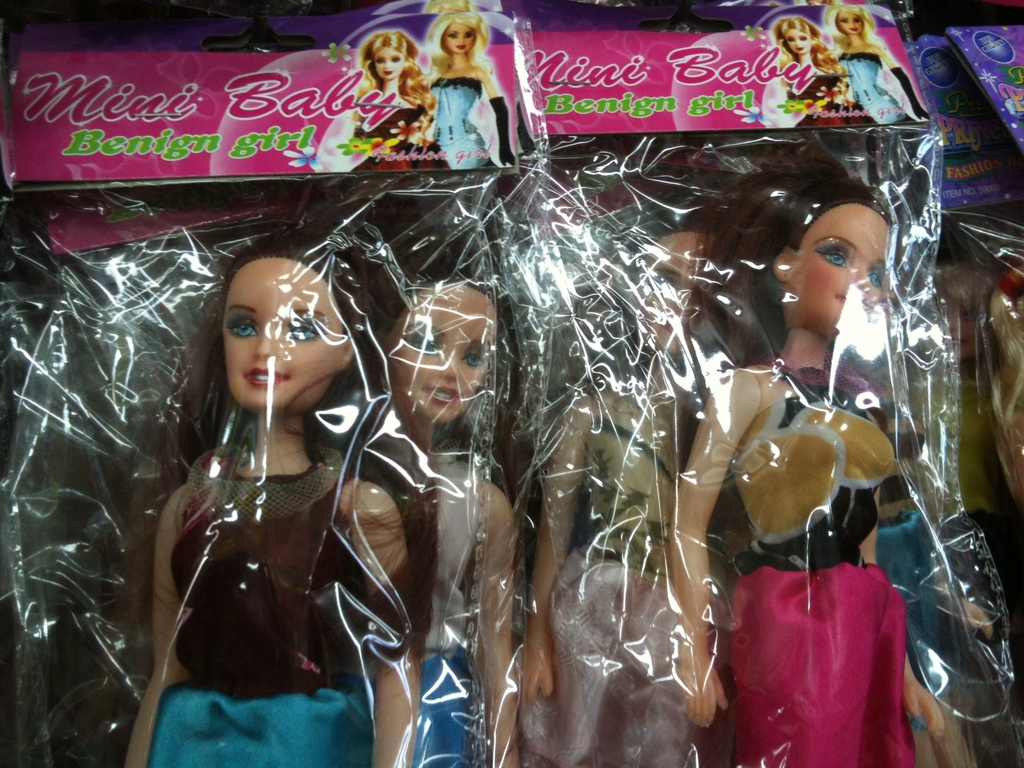Person: (123, 0, 1024, 767)
